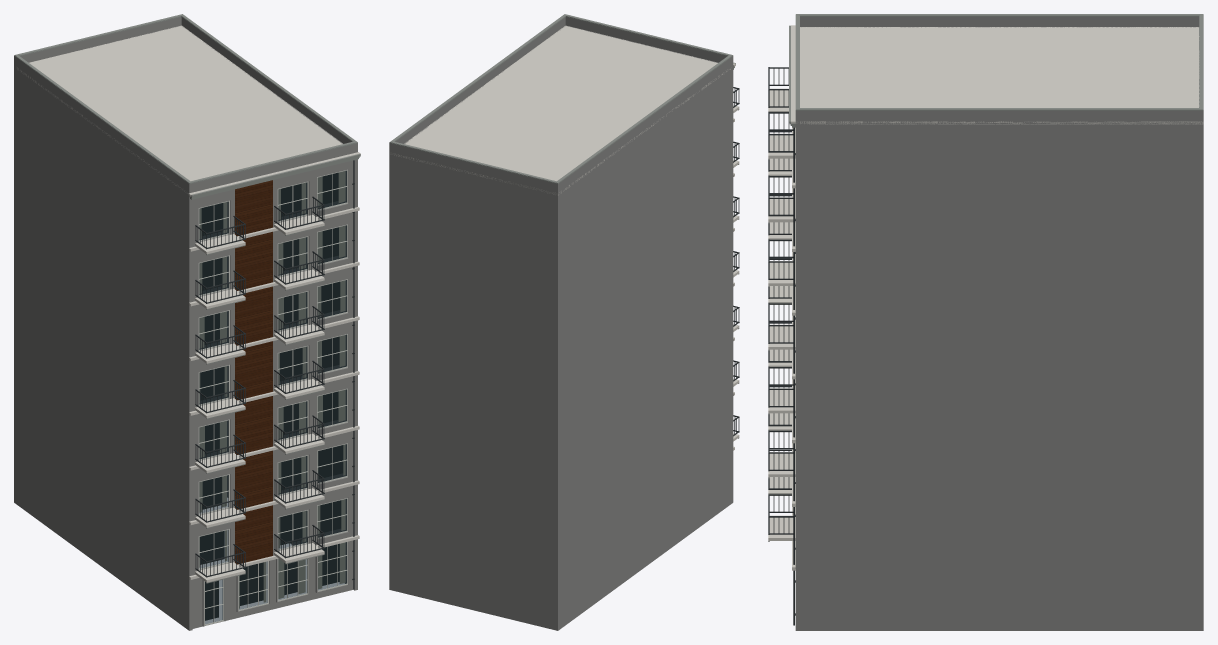
File: building.glb
The picture shows the model from 3 angles, left to right: view 1: azimuth 30°, elevation 25°; view 2: azimuth 150°, elevation 25°; view 3: azimuth 270°, elevation 25°; orthographic projection. The views are drawn at different scales.
Visible parts, largest first — view 1: main:0/edge3/z0/main:0/edge3/z0/wall_0_0, roof/main:0/roof_slab#0001, main:0/edge0/z0/main:0/edge0/z0/wall_1_0, main:0/edge0/z0/main:0/edge0/z0/coating_1_0_0, roof/main:0/parapet#0001, main:0/edge1/z0/main:0/edge1/z0/wall_0_0, main:0/edge0/z0/main:0/edge0/z0/wall_0_0, roof/main:0/parapet_cap#0002, roof/main:0/parapet_cap#0001, main:0/edge0/z0/opening_u7.60_v0.40/glazing#0001, main:0/edge0/z0/opening_u2.90_v0.40/glazing#0001, main:0/edge0/z0/opening_u5.24_v0.40/glazing#0001 (+51 smaller); view 2: main:0/edge3/z0/main:0/edge3/z0/wall_0_0, main:0/edge2/z0/main:0/edge2/z0/wall_0_0, roof/main:0/roof_slab#0001, roof/main:0/parapet#0001, roof/main:0/parapet_cap#0002, main:0/edge1/z0/main:0/edge1/z0/wall_0_0, main:0/edge0/z0/main:0/edge0/z0/wall_1_0, roof/main:0/parapet_cap#0001; view 3: main:0/edge1/z0/main:0/edge1/z0/wall_0_0, roof/main:0/roof_slab#0001, roof/main:0/parapet#0001, roof/main:0/parapet_cap#0002, main:0/edge0/z0/main:0/edge0/z0/wall_1_0, main:0/edge2/z0/main:0/edge2/z0/wall_0_0, roof/main:0/parapet_cap#0001, main:0/edge0/z0/proj_downpipe_15/downpipe#0001, main:0/edge0/z0/proj_balcony_08/balcony_slab#0001, main:0/edge0/z0/proj_balcony_02/balcony_slab#0001, main:0/edge0/z0/proj_balcony_06/balcony_slab#0001, main:0/edge0/z0/proj_balcony_12/balcony_slab#0001 (+3 smaller).
Part boxes in pixels (x1,y1,x2,y2): main:0/edge3/z0/main:0/edge3/z0/wall_0_0: (14,67,192,630); roof/main:0/roof_slab#0001: (17,25,342,193); main:0/edge0/z0/main:0/edge0/z0/wall_1_0: (187,159,357,576); main:0/edge0/z0/main:0/edge0/z0/coating_1_0_0: (235,180,272,564); roof/main:0/parapet#0001: (14,17,357,193); main:0/edge1/z0/main:0/edge1/z0/wall_0_0: (182,26,357,590); main:0/edge0/z0/main:0/edge0/z0/wall_0_0: (187,540,353,629); roof/main:0/parapet_cap#0002: (14,14,357,183); roof/main:0/parapet_cap#0001: (14,16,357,184); main:0/edge0/z0/opening_u7.60_v0.40/glazing#0001: (318,542,346,590); main:0/edge0/z0/opening_u2.90_v0.40/glazing#0001: (239,561,267,609); main:0/edge0/z0/opening_u5.24_v0.40/glazing#0001: (278,559,307,599); main:0/edge3/z0/main:0/edge3/z0/wall_0_0: (555,65,733,630); main:0/edge2/z0/main:0/edge2/z0/wall_0_0: (389,152,559,630); roof/main:0/roof_slab#0001: (390,26,730,195); roof/main:0/parapet#0001: (389,17,733,193); roof/main:0/parapet_cap#0002: (390,14,732,183); main:0/edge1/z0/main:0/edge1/z0/wall_0_0: (389,26,565,585); main:0/edge0/z0/main:0/edge0/z0/wall_1_0: (565,25,733,448); roof/main:0/parapet_cap#0001: (389,16,733,184); main:0/edge1/z0/main:0/edge1/z0/wall_0_0: (795,121,1203,630); roof/main:0/roof_slab#0001: (796,27,1203,124); roof/main:0/parapet#0001: (795,17,1203,121); roof/main:0/parapet_cap#0002: (796,14,1203,109); main:0/edge0/z0/main:0/edge0/z0/wall_1_0: (795,121,799,554); main:0/edge2/z0/main:0/edge2/z0/wall_0_0: (1199,27,1203,630); roof/main:0/parapet_cap#0001: (795,14,1203,110); main:0/edge0/z0/proj_downpipe_15/downpipe#0001: (793,127,794,625); main:0/edge0/z0/proj_balcony_08/balcony_slab#0001: (768,324,795,349); main:0/edge0/z0/proj_balcony_02/balcony_slab#0001: (768,515,795,540); main:0/edge0/z0/proj_balcony_06/balcony_slab#0001: (768,388,795,413); main:0/edge0/z0/proj_balcony_12/balcony_slab#0001: (768,197,795,222).
Bounding box in the file's own units: 10.08 × 25.37 × 19.2.
9 materials, 1 textured.
